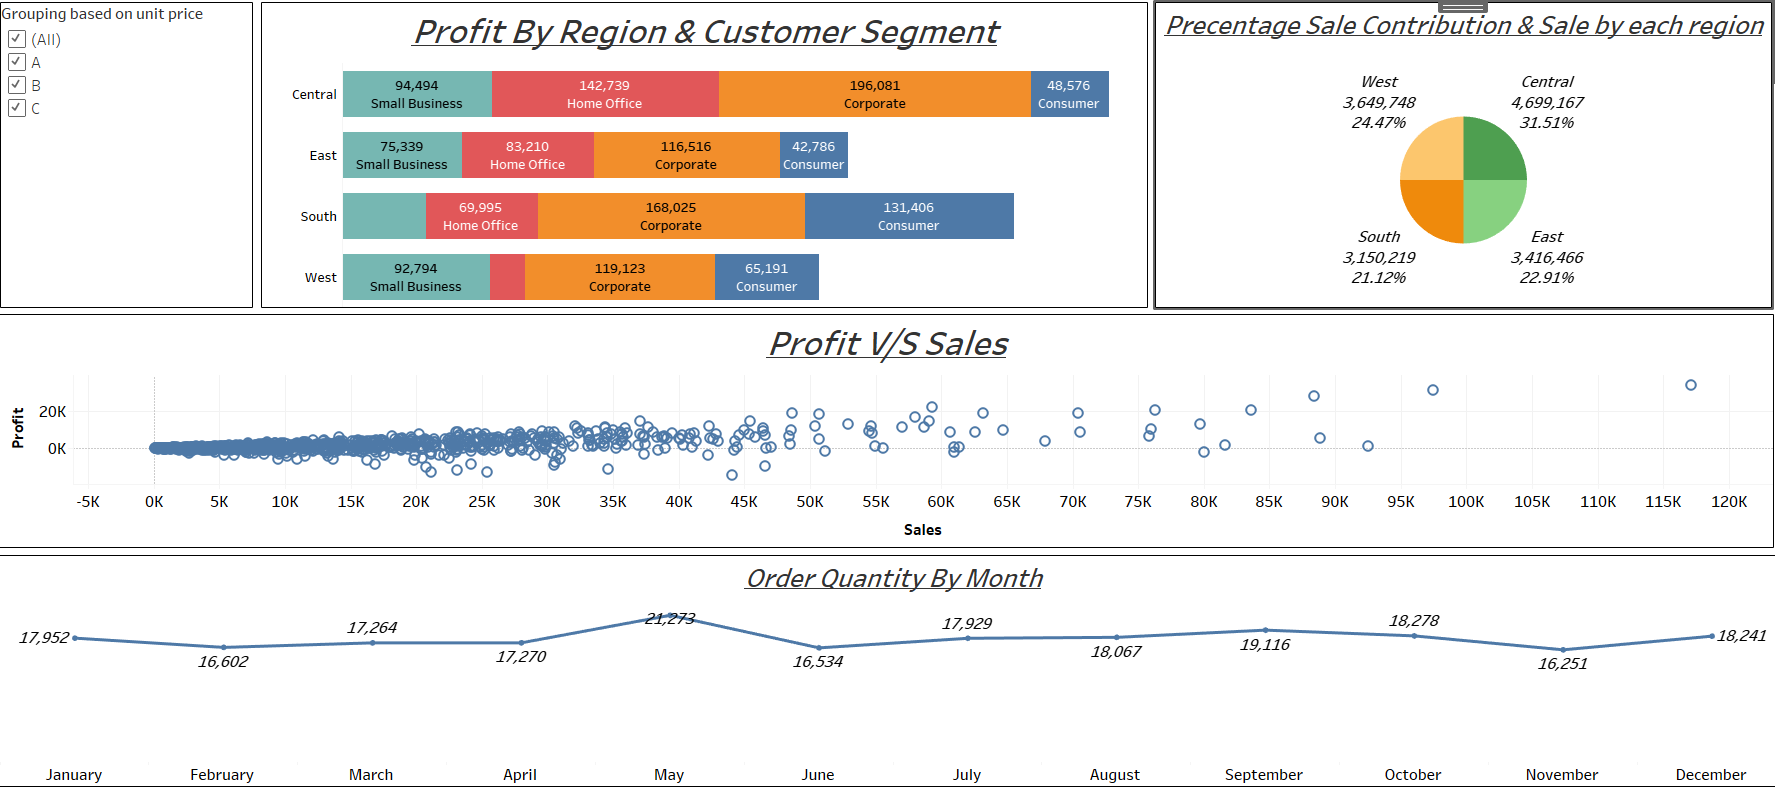

Layout of this report page (visuals, bound fields, positions):
{"tool":"tableau","page":{"name":"Dashboard","canvas":[1000,1000],"units":"permille","ordinal":0},"visuals":[{"type":"filter","title":"line chart","param":"[federated.1iplly503ug4yn1ge29o80z7amxv].[none:Calculation_1002613909896867840:n","box":[11.8,8.8,139.2,381.3]},{"type":"worksheet","title":"Bar Chart","mark":"Automatic","rows":["Region"],"cols":["Profit"],"box":[154.9,8.8,487.2,381.3]},{"type":"worksheet","title":"Pie Chart","mark":"Pie","box":[646.1,8.8,339.2,381.3]},{"type":"worksheet","title":"scatter plot","mark":"Automatic","rows":["Profit"],"cols":["Sales"],"box":[10.8,397.7,975.5,291.7]},{"type":"worksheet","title":"line chart","mark":"Automatic","rows":["Order Quantity"],"cols":["Order Date"],"box":[10.8,698.2,982.4,289.1]}]}

Visuals, with their boxes on the dashboard's canvas, which has no fixed pixel size, in thousandths of its width and height (x1, y1, x2, y2). These are canvas units, not pixel positions in the 1775x794 screenshot, which may show the page scaled, cropped or inside an application window:
"line chart" filter: detection(12, 9, 151, 390)
"Bar Chart" worksheet: detection(155, 9, 642, 390)
"Pie Chart" worksheet (Pie marks): detection(646, 9, 985, 390)
"scatter plot" worksheet: detection(11, 398, 986, 689)
"line chart" worksheet: detection(11, 698, 993, 987)
